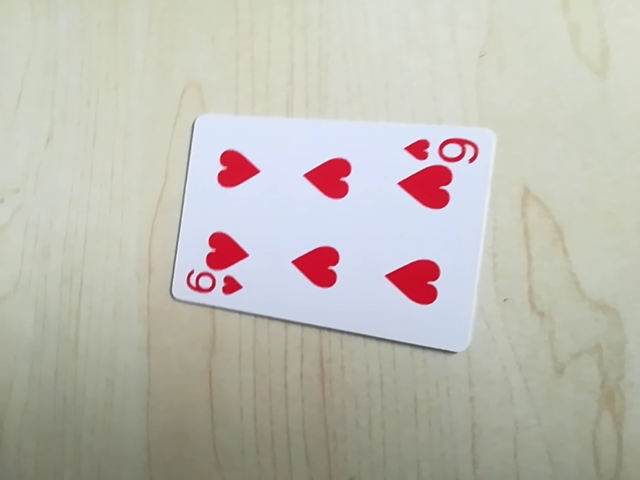hx 6: (400, 130, 481, 166), (179, 269, 245, 301)
